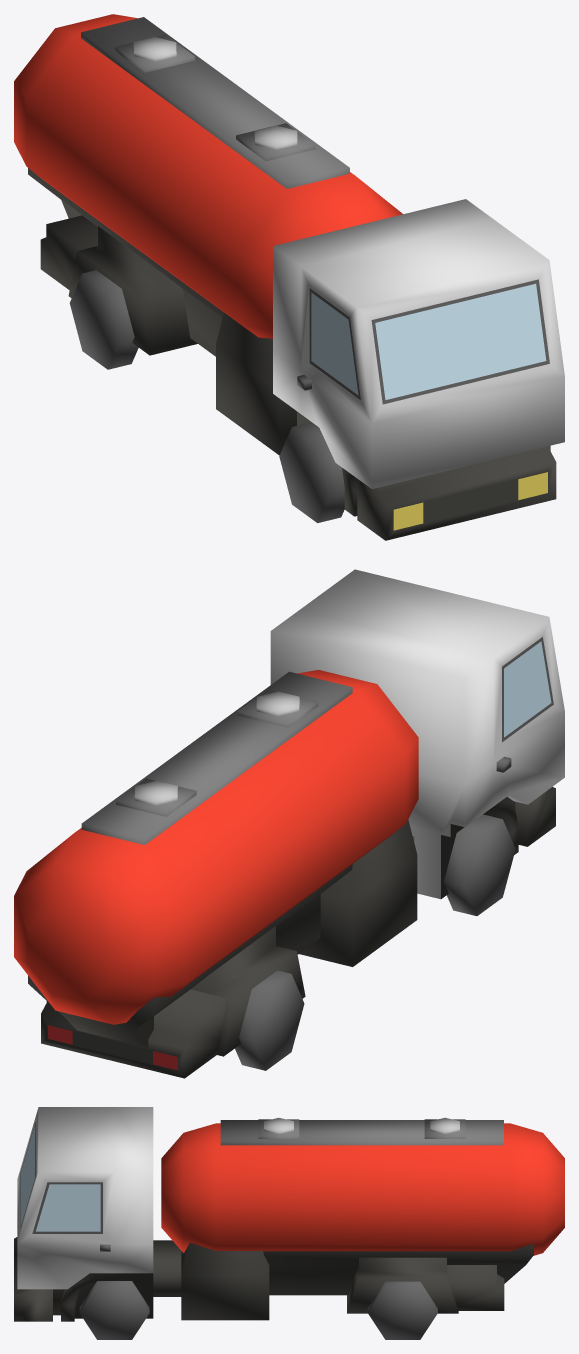
The model's file is gasstruckonly.glb.
The picture shows the model from 3 angles, top to bottom: view 1: azimuth 30°, elevation 25°; view 2: azimuth 150°, elevation 25°; view 3: azimuth 270°, elevation 25°; orthographic projection. The views are drawn at different scales.
Visible parts, largest first — view 1: Gas_Truck.001; view 2: Gas_Truck.001; view 3: Gas_Truck.001.
Boxes of the visible parts, left/top/right/bottom form: Gas_Truck.001: left=14, top=14, right=564, bottom=540; Gas_Truck.001: left=14, top=569, right=564, bottom=1078; Gas_Truck.001: left=14, top=1107, right=564, bottom=1339.
Size of the model in its own units: 23.74 by 30.12 by 81.47.
Materials: 1 (1 with a texture image).
